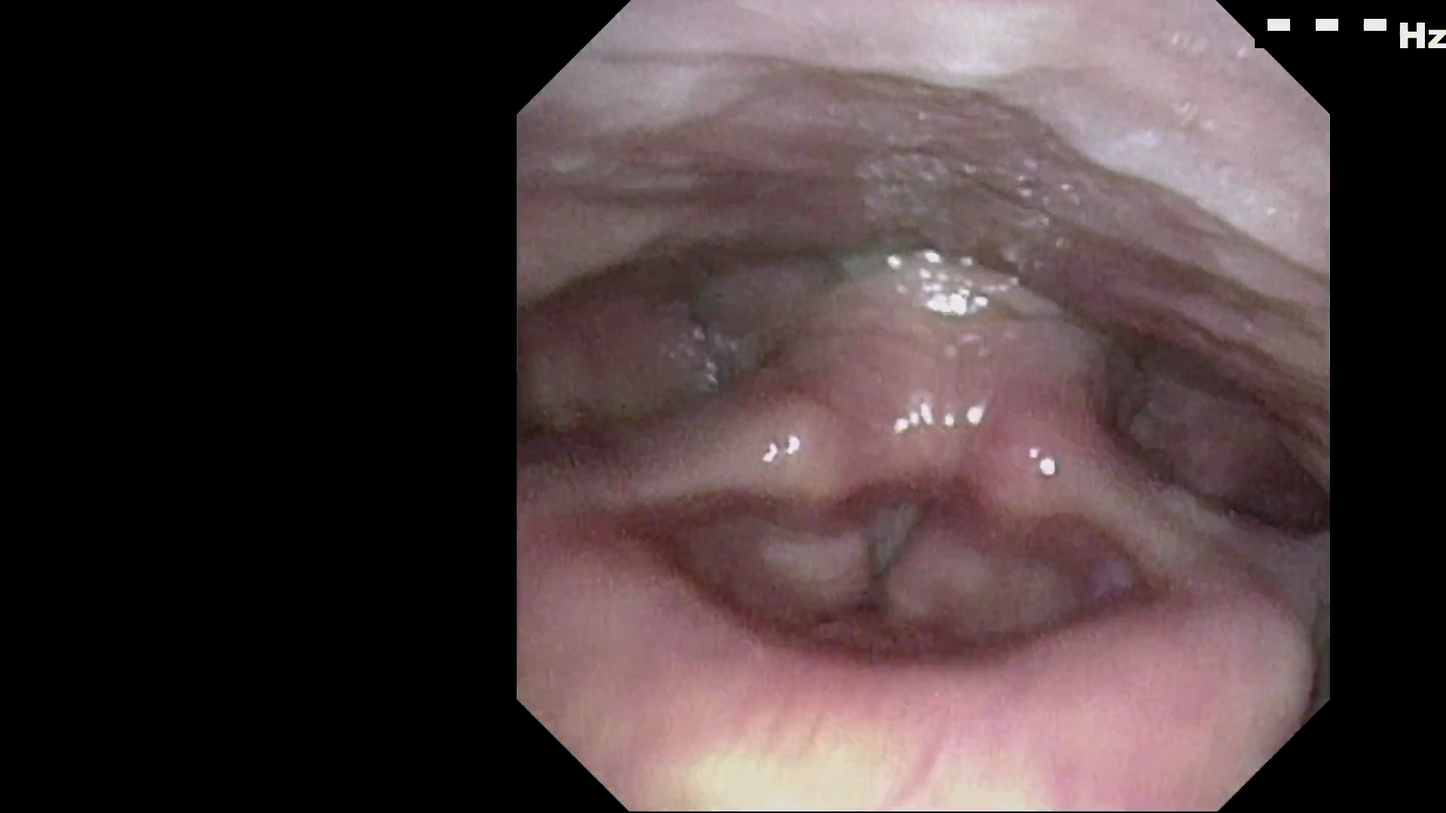epiglottis: (542, 517, 1276, 748)
trachea: (839, 462, 946, 587)
